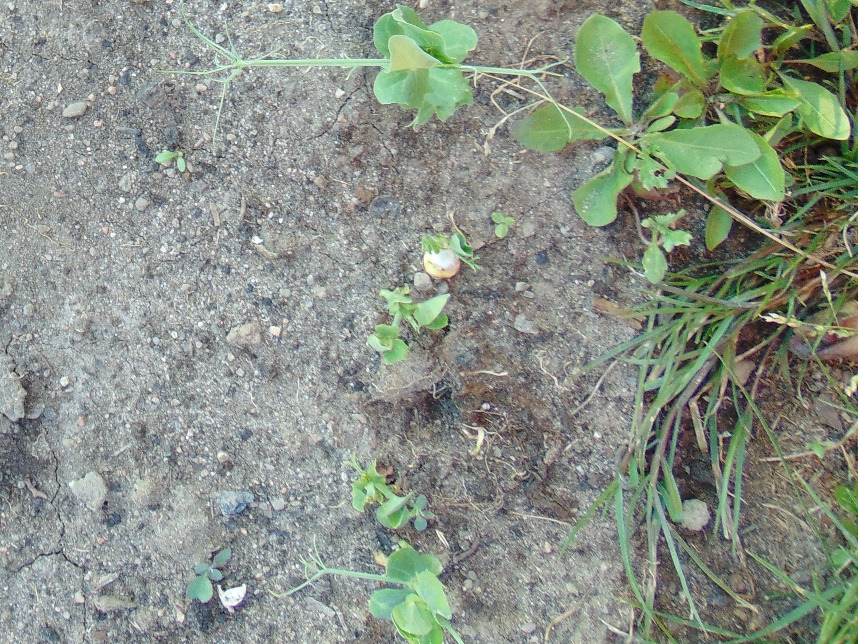crop: (209, 7, 564, 123), (306, 540, 455, 644), (368, 223, 473, 363), (334, 451, 424, 530)
weed: (595, 176, 858, 644), (504, 12, 760, 225), (602, 182, 858, 395), (602, 1, 858, 212), (189, 549, 231, 601)
